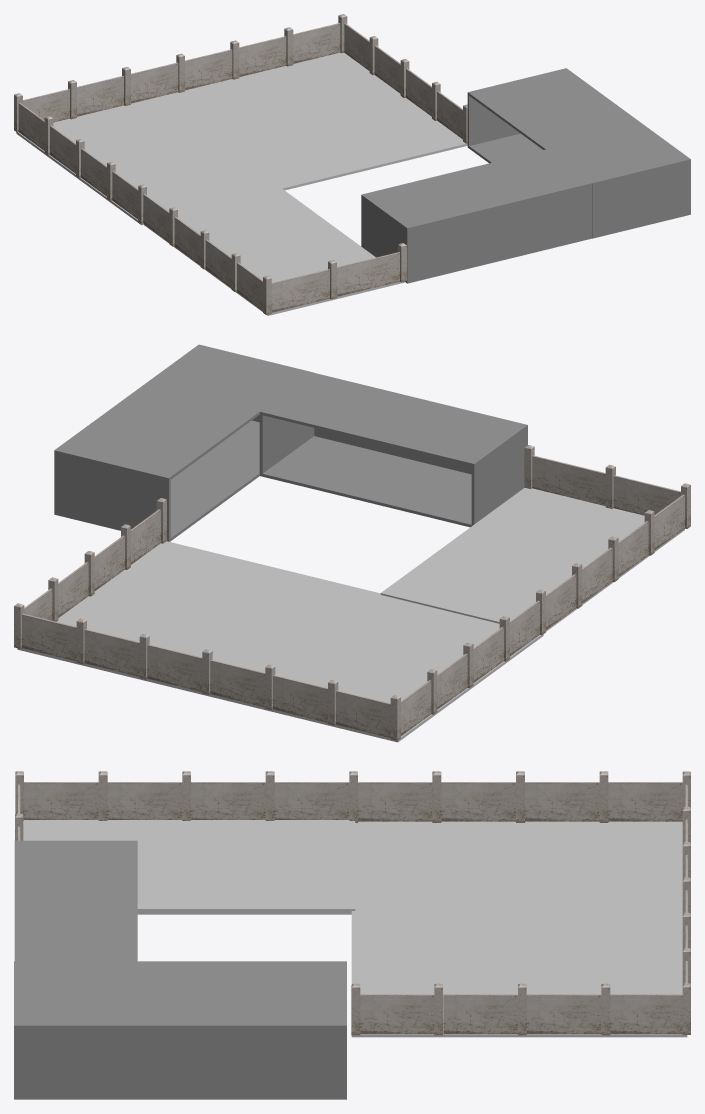
File: Exterior.FBX
The picture shows the model from 3 angles, top to bottom: view 1: azimuth 30°, elevation 25°; view 2: azimuth 150°, elevation 25°; view 3: azimuth 270°, elevation 25°; orthographic projection. The views are drawn at different scales.
Visible parts, largest first — view 1: Exterior; view 2: Exterior; view 3: Exterior.
Boxes of the visible parts, x1,y1,x2,y2 form: Exterior: [14, 14, 690, 315]; Exterior: [14, 344, 690, 742]; Exterior: [14, 771, 690, 1099].
Size of the model in its own units: 3120 by 391 by 3223.
